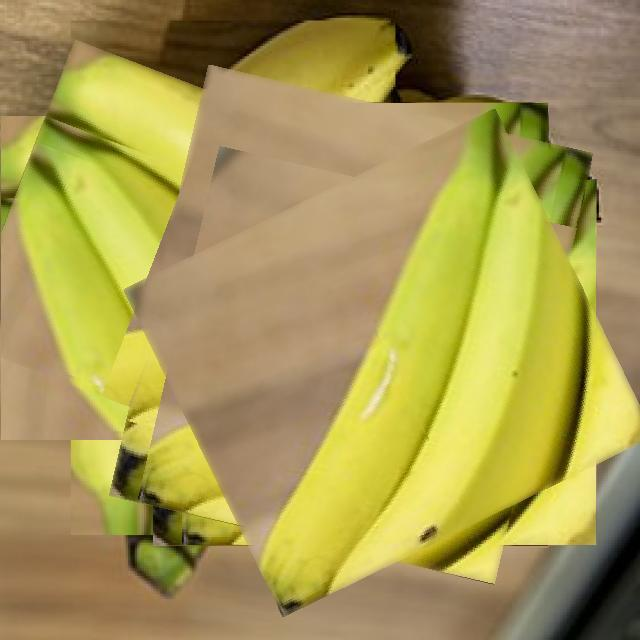Madura: (51, 48, 447, 517)
Quase Madura: (117, 150, 588, 526), (261, 109, 511, 617)
